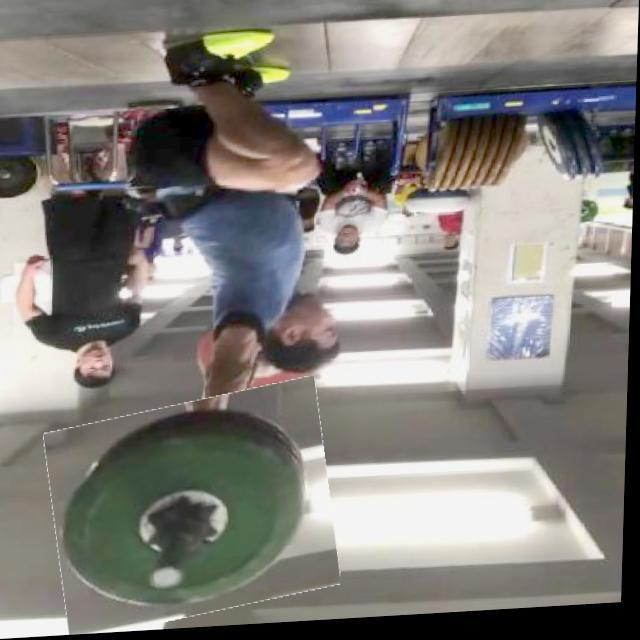barbell: (50, 390, 343, 636)
